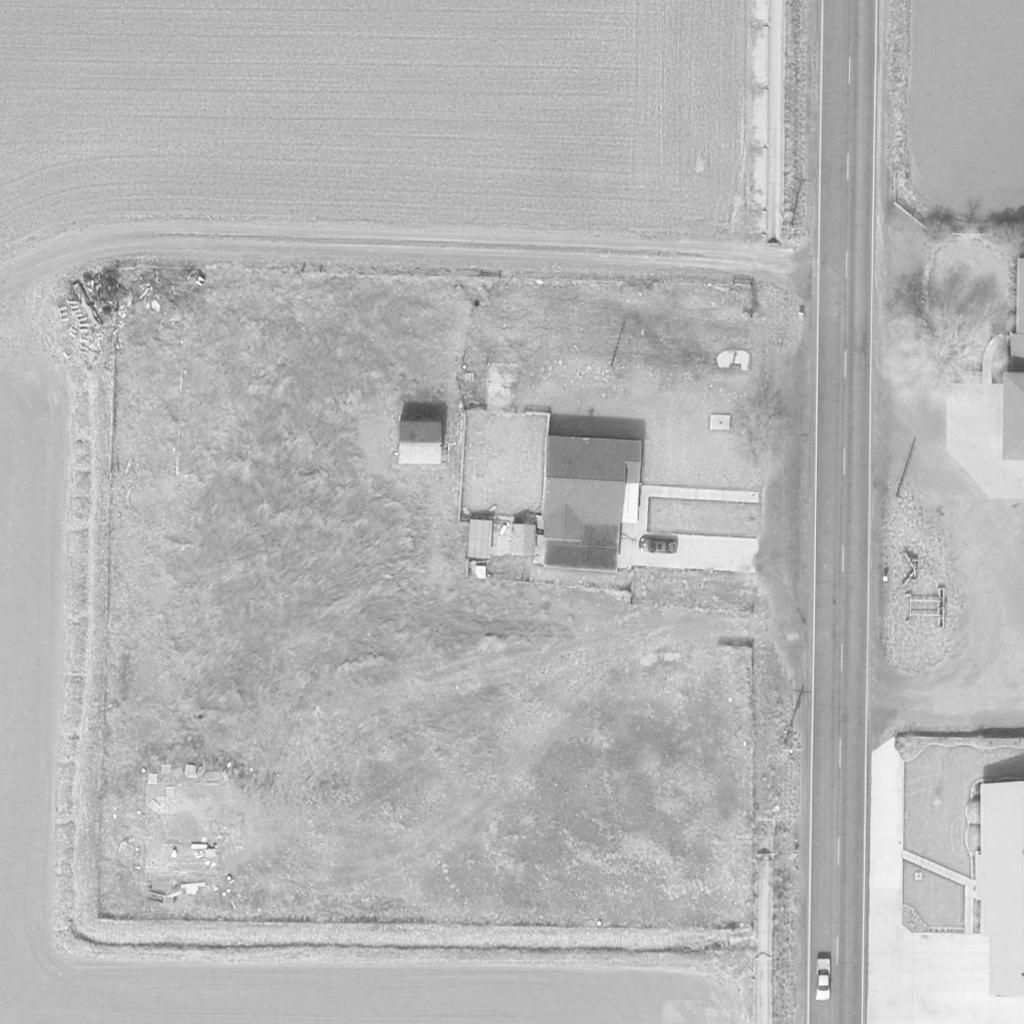vehicle: (638, 536, 678, 556), (817, 957, 831, 1001)
